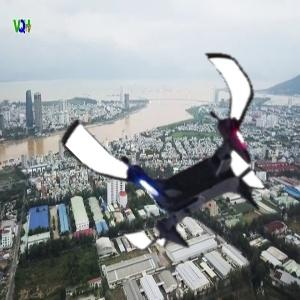drone: (76, 44, 291, 259)
